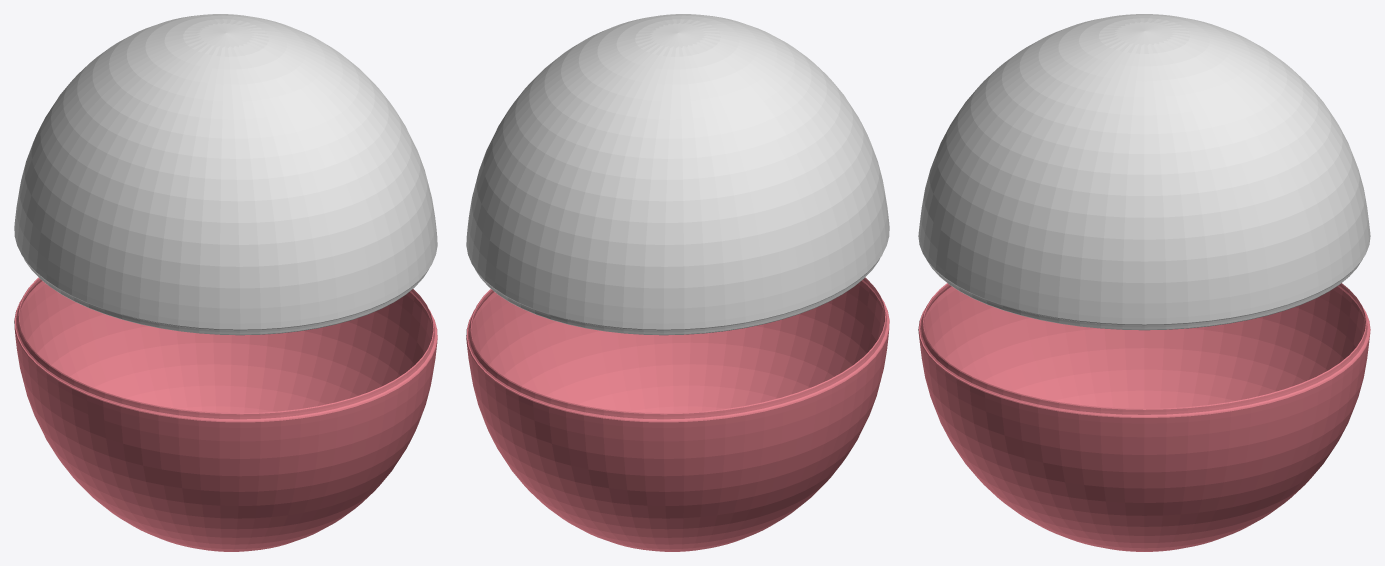
Rendered from Toy_Capsule.fbx.
3 renders of one model, left to right at view 1: azimuth 30°, elevation 25°; view 2: azimuth 150°, elevation 25°; view 3: azimuth 270°, elevation 25°, orthographic.
Parts seen in each view (by area): view 1: Sphere.001, Sphere; view 2: Sphere.001, Sphere; view 3: Sphere.001, Sphere.
Boxes of the visible parts, x1,y1,x2,y2 form: Sphere.001: (14, 14, 437, 335); Sphere: (14, 277, 437, 551); Sphere.001: (466, 14, 889, 335); Sphere: (466, 277, 889, 551); Sphere.001: (918, 14, 1370, 330); Sphere: (918, 283, 1370, 551).
Size of the model in its own units: 184 by 244 by 199.
